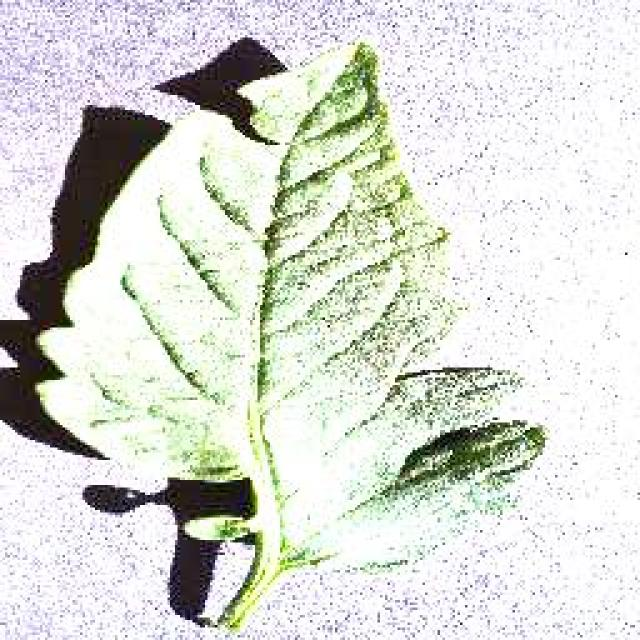Tomato___healthy: (28, 41, 545, 636)
